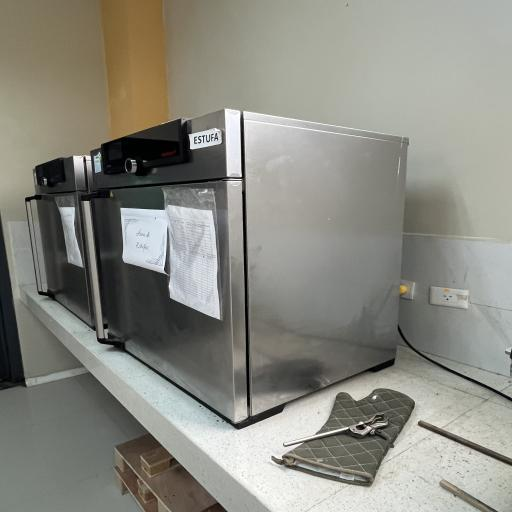Estufa_Memmert: (84, 103, 430, 435)
